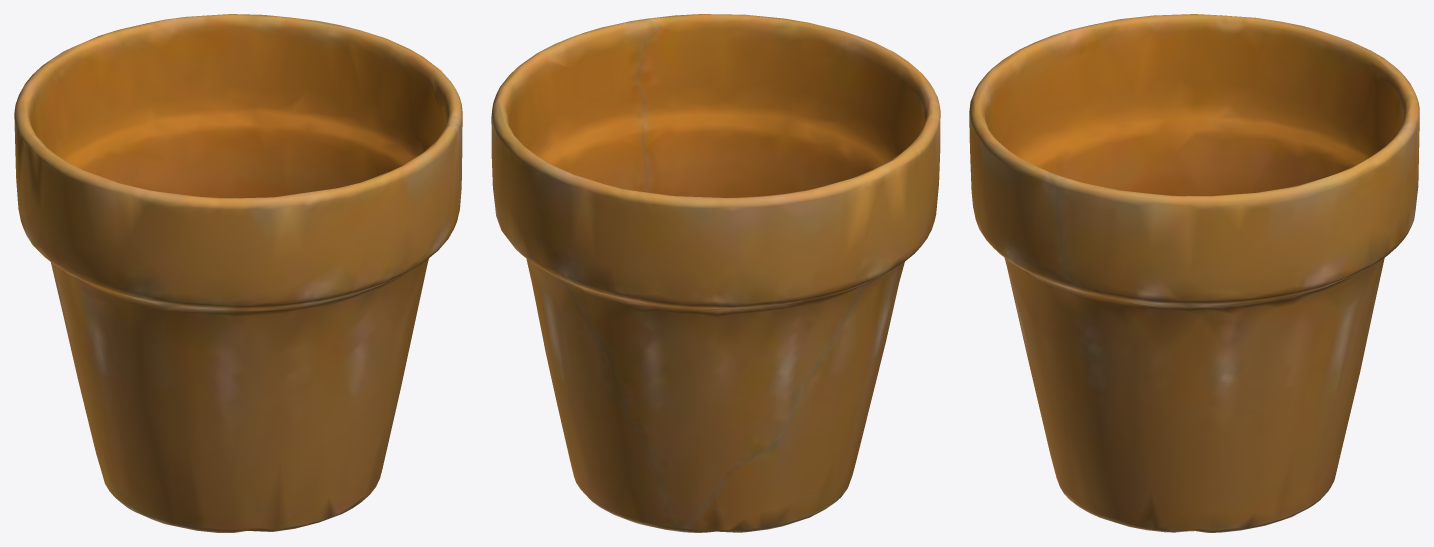
Rendered from Cole_Hardware_Electric_Pot_Cabana_55-high.glb.
3 renders of one model, left to right at view 1: azimuth 30°, elevation 25°; view 2: azimuth 150°, elevation 25°; view 3: azimuth 270°, elevation 25°, orthographic.
Parts seen in each view (by area): view 1: Cole_Hardware_Electric_Pot_Cabana_55; view 2: Cole_Hardware_Electric_Pot_Cabana_55; view 3: Cole_Hardware_Electric_Pot_Cabana_55.
Boxes of the visible parts, x1,y1,x2,y2 form: Cole_Hardware_Electric_Pot_Cabana_55: (14,14,462,532); Cole_Hardware_Electric_Pot_Cabana_55: (491,14,940,532); Cole_Hardware_Electric_Pot_Cabana_55: (969,14,1419,532).
Size of the model in its own units: 0.1417 by 0.1301 by 0.1419.
Materials: 1 (1 with a texture image).
